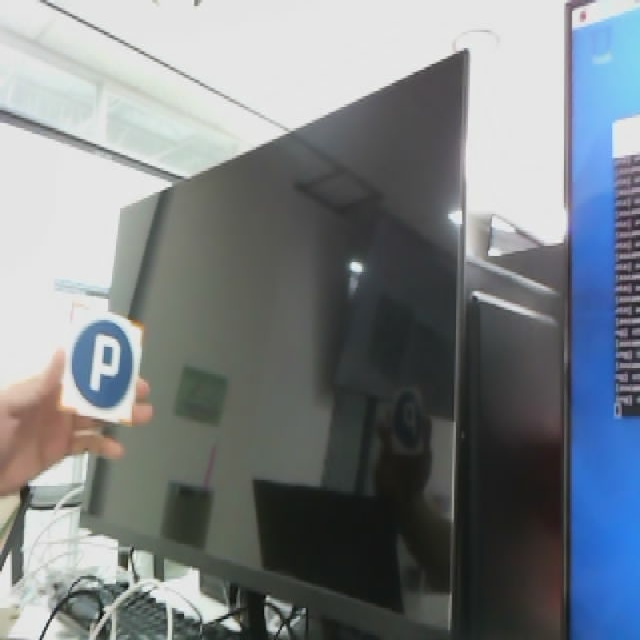parking: (54, 298, 144, 427)
